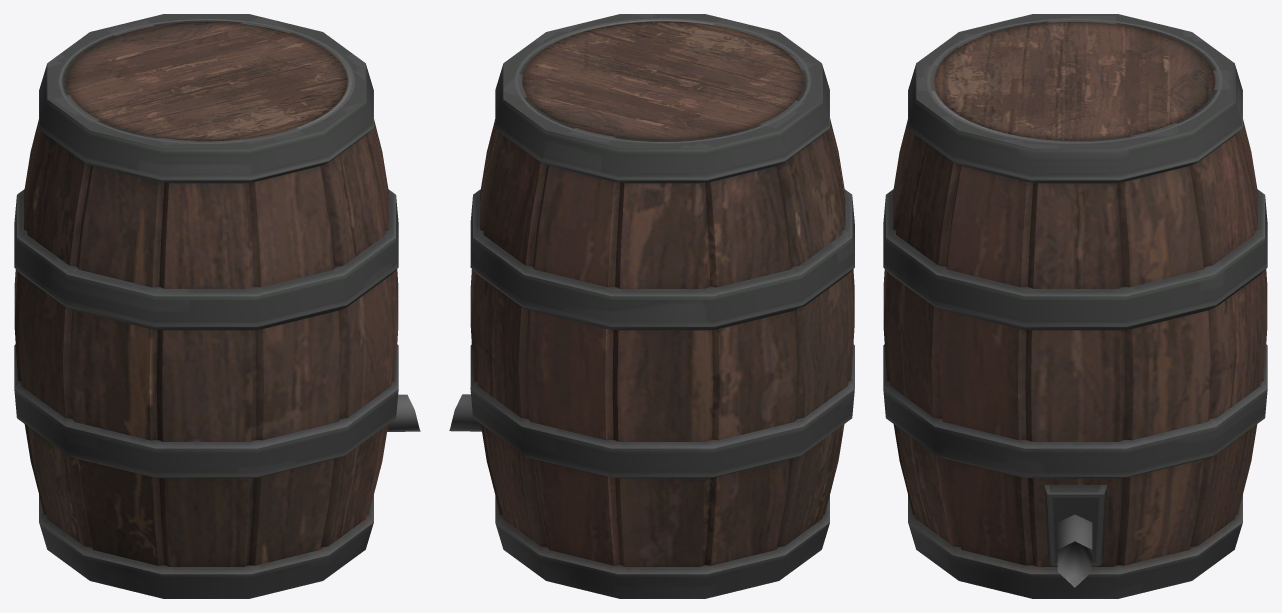
The model's file is still_barrel.glb.
The picture shows the model from 3 angles, left to right: view 1: azimuth 30°, elevation 25°; view 2: azimuth 150°, elevation 25°; view 3: azimuth 270°, elevation 25°; orthographic projection.
Visible parts, largest first — view 1: still_barrel; view 2: still_barrel; view 3: still_barrel.
Boxes of the visible parts, x1,y1,x2,y2 form: still_barrel: [14, 14, 420, 598]; still_barrel: [449, 14, 854, 598]; still_barrel: [883, 14, 1267, 598].
Size of the model in its own units: 0.8574 by 0.9716 by 0.7506.
1 material, 1 textured.
